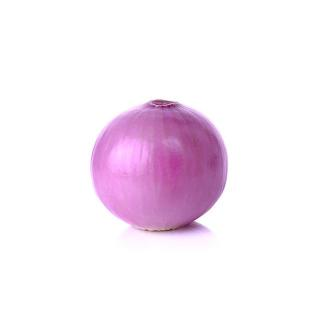Bawang Merah: (88, 95, 232, 236)
